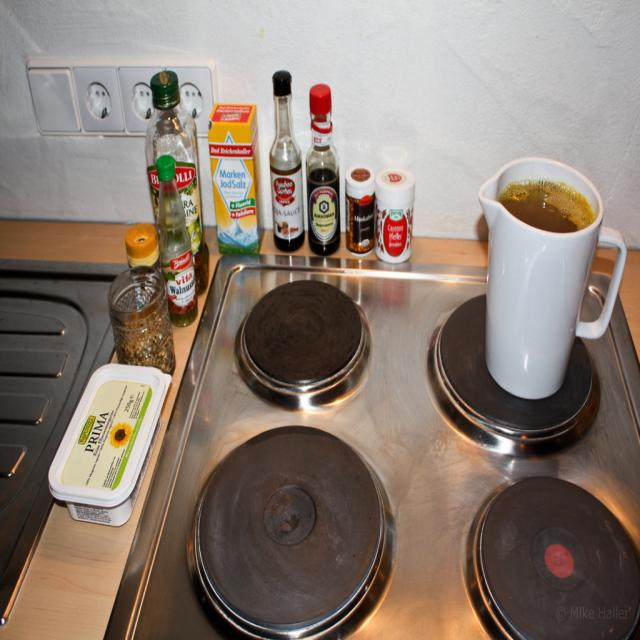Coffee: (481, 168, 616, 416)
Tea: (492, 180, 598, 230)
